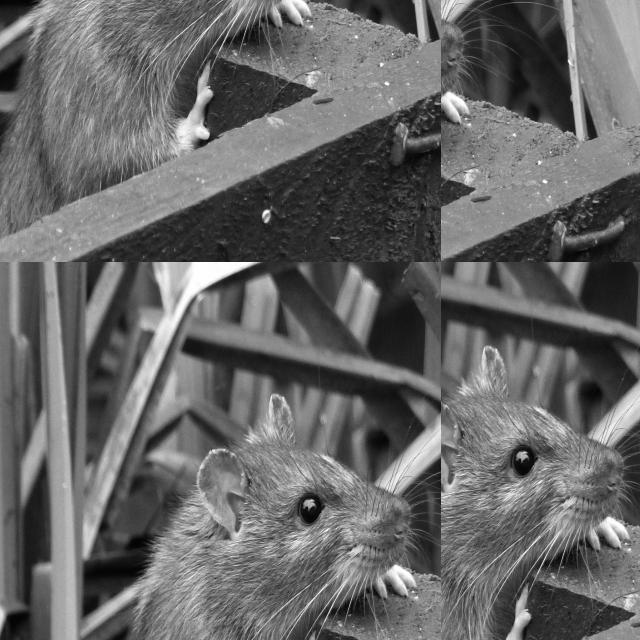rat: (441, 346, 627, 640)
